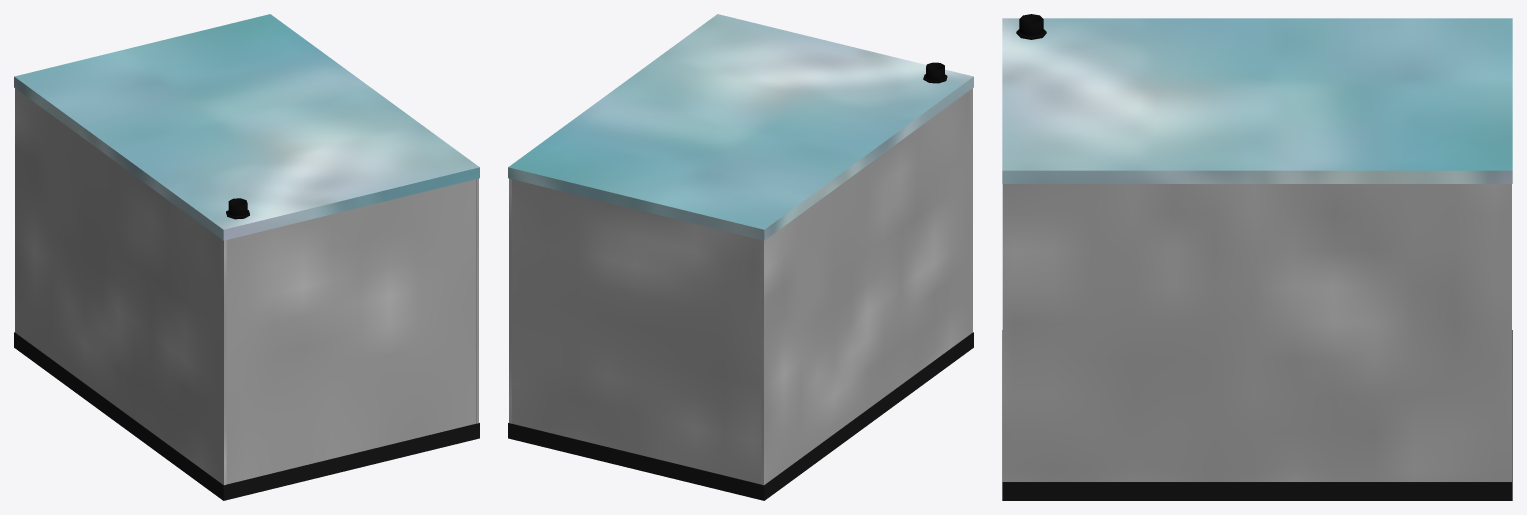
The model's file is pecera.obj.
3 renders of one model, left to right at view 1: azimuth 30°, elevation 25°; view 2: azimuth 150°, elevation 25°; view 3: azimuth 270°, elevation 25°, orthographic. The views are drawn at different scales.
Visible parts, largest first — view 1: vidrios_Material.002, arriba_Material.003, 12986_Freshwater_Aquarium_v1_l2_12986_Freshwater_Aquarium_Main; view 2: vidrios_Material.002, arriba_Material.003, 12986_Freshwater_Aquarium_v1_l2_12986_Freshwater_Aquarium_Main; view 3: vidrios_Material.002, arriba_Material.003, 12986_Freshwater_Aquarium_v1_l2_12986_Freshwater_Aquarium_Main, 12986_Freshwater_Aquarium_v1_l2_12986_Freshwater_Aquarium_Props1.
Part boxes in pixels (box(x1,y1,x2,y2)): vidrios_Material.002: box(15, 88, 478, 485); arriba_Material.003: box(14, 14, 479, 240); 12986_Freshwater_Aquarium_v1_l2_12986_Freshwater_Aquarium_Main: box(14, 332, 479, 500); vidrios_Material.002: box(509, 88, 972, 485); arriba_Material.003: box(508, 14, 973, 240); 12986_Freshwater_Aquarium_v1_l2_12986_Freshwater_Aquarium_Main: box(508, 332, 973, 500); vidrios_Material.002: box(1002, 184, 1511, 481); arriba_Material.003: box(1002, 18, 1512, 183); 12986_Freshwater_Aquarium_v1_l2_12986_Freshwater_Aquarium_Main: box(1002, 330, 1512, 500); 12986_Freshwater_Aquarium_v1_l2_12986_Freshwater_Aquarium_Props1: box(1016, 14, 1046, 39).
Bounding box in the file's own units: 44.5 × 47.04 × 63.
Materials: 10 (10 with a texture image).
